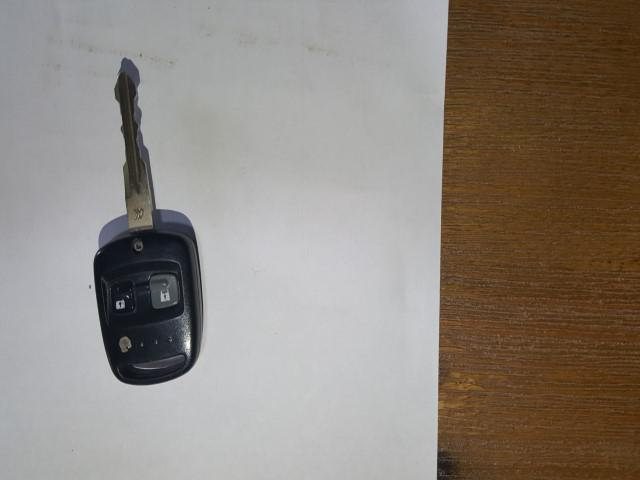key: (92, 72, 198, 198)
